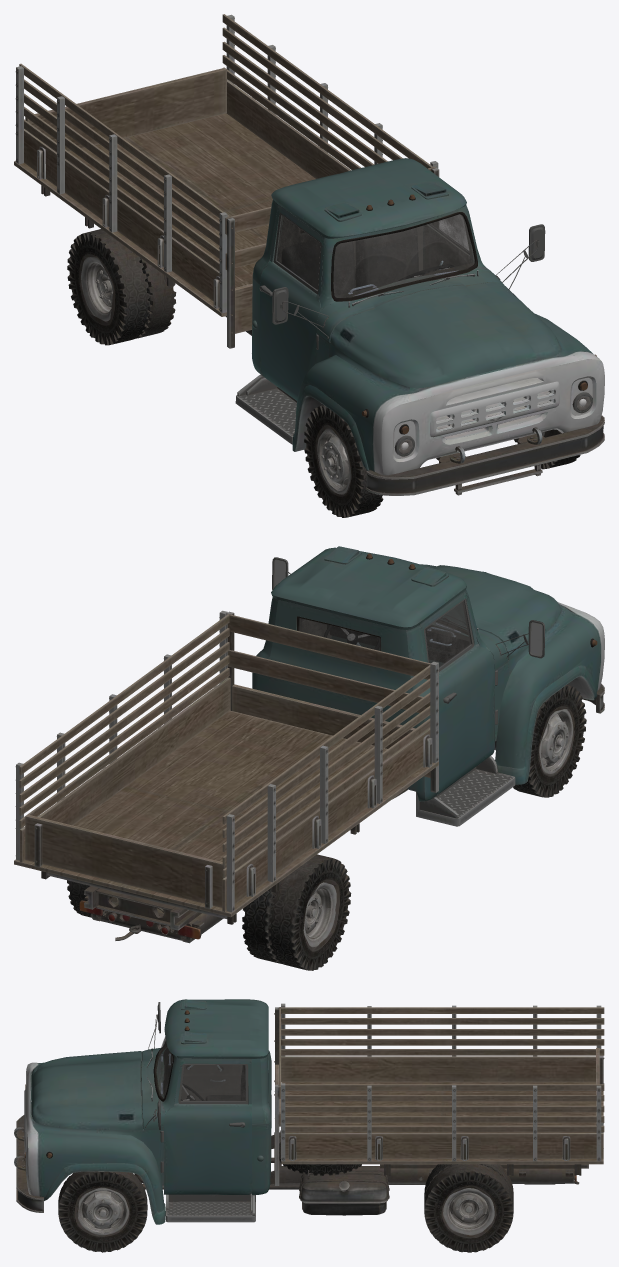
File: zil.glb
3 renders of one model, top to bottom at view 1: azimuth 30°, elevation 25°; view 2: azimuth 150°, elevation 25°; view 3: azimuth 270°, elevation 25°, orthographic. The views are drawn at different scales.
Visible parts, largest first — view 1: ZIL130_Cabin_ZIL130_Cabin_0, ZIL130_Back_ZIL130_Back_0, ZIL130_Tires_ZIL130_Tire_0, ZIL130_Glass_ZIL130_Glass_0, ZIL130_Base_ZIL130_Base_0, ZIL130_CabinDetals_ZIL130_CabinDetals_0, ZIL130_Inside_ZIL130_Inside_0, ZIL130_Wheels_ZIL130_Wheel_0; view 2: ZIL130_Back_ZIL130_Back_0, ZIL130_Cabin_ZIL130_Cabin_0, ZIL130_Tires_ZIL130_Tire_0, ZIL130_CabinDetals_ZIL130_CabinDetals_0, ZIL130_Wheels_ZIL130_Wheel_0, ZIL130_Glass_ZIL130_Glass_0, ZIL130_Base_ZIL130_Base_0, ZIL130_Inside_ZIL130_Inside_0; view 3: ZIL130_Back_ZIL130_Back_0, ZIL130_Cabin_ZIL130_Cabin_0, ZIL130_Tires_ZIL130_Tire_0, ZIL130_Base_ZIL130_Base_0, ZIL130_CabinDetals_ZIL130_CabinDetals_0, ZIL130_Wheels_ZIL130_Wheel_0, ZIL130_Glass_ZIL130_Glass_0, ZIL130_Inside_ZIL130_Inside_0.
Boxes of the visible parts, x1,y1,x2,y2 form: ZIL130_Cabin_ZIL130_Cabin_0: (252, 158, 604, 475); ZIL130_Back_ZIL130_Back_0: (14, 14, 439, 348); ZIL130_Tires_ZIL130_Tire_0: (67, 229, 580, 517); ZIL130_Glass_ZIL130_Glass_0: (276, 214, 474, 297); ZIL130_Base_ZIL130_Base_0: (225, 316, 604, 495); ZIL130_CabinDetals_ZIL130_CabinDetals_0: (235, 194, 596, 456); ZIL130_Inside_ZIL130_Inside_0: (281, 228, 473, 297); ZIL130_Wheels_ZIL130_Wheel_0: (81, 257, 544, 494); ZIL130_Back_ZIL130_Back_0: (14, 610, 438, 930); ZIL130_Cabin_ZIL130_Cabin_0: (252, 546, 604, 801); ZIL130_Tires_ZIL130_Tire_0: (67, 684, 586, 970); ZIL130_CabinDetals_ZIL130_CabinDetals_0: (272, 553, 597, 826); ZIL130_Wheels_ZIL130_Wheel_0: (303, 709, 573, 947); ZIL130_Glass_ZIL130_Glass_0: (299, 601, 471, 667); ZIL130_Base_ZIL130_Base_0: (79, 683, 604, 943); ZIL130_Inside_ZIL130_Inside_0: (327, 623, 469, 662); ZIL130_Back_ZIL130_Back_0: (274, 1003, 604, 1185); ZIL130_Cabin_ZIL130_Cabin_0: (24, 999, 271, 1224); ZIL130_Tires_ZIL130_Tire_0: (58, 1130, 513, 1252); ZIL130_Base_ZIL130_Base_0: (14, 1115, 579, 1215); ZIL130_CabinDetals_ZIL130_CabinDetals_0: (25, 1002, 255, 1222); ZIL130_Wheels_ZIL130_Wheel_0: (78, 1187, 494, 1235); ZIL130_Glass_ZIL130_Glass_0: (155, 1037, 245, 1101); ZIL130_Inside_ZIL130_Inside_0: (161, 1048, 245, 1100).
Bounding box in the file's own units: 2.76 × 2.39 × 6.7.
Materials: 14 (13 with a texture image).
